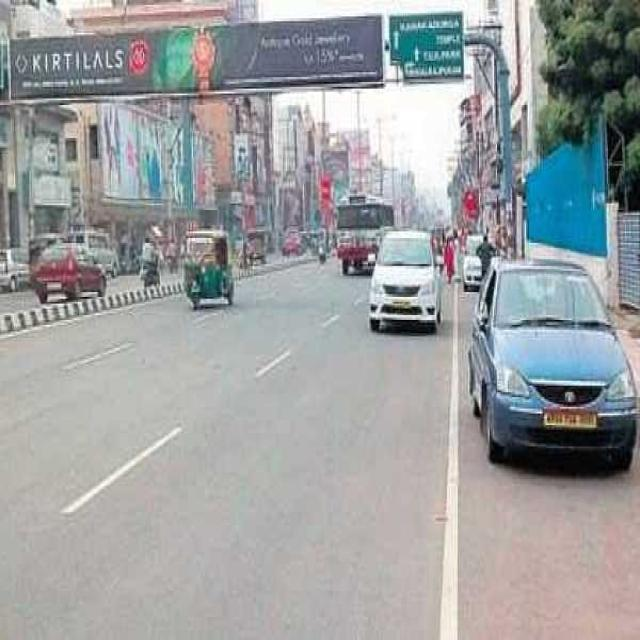Clean road: (0, 261, 490, 638)
